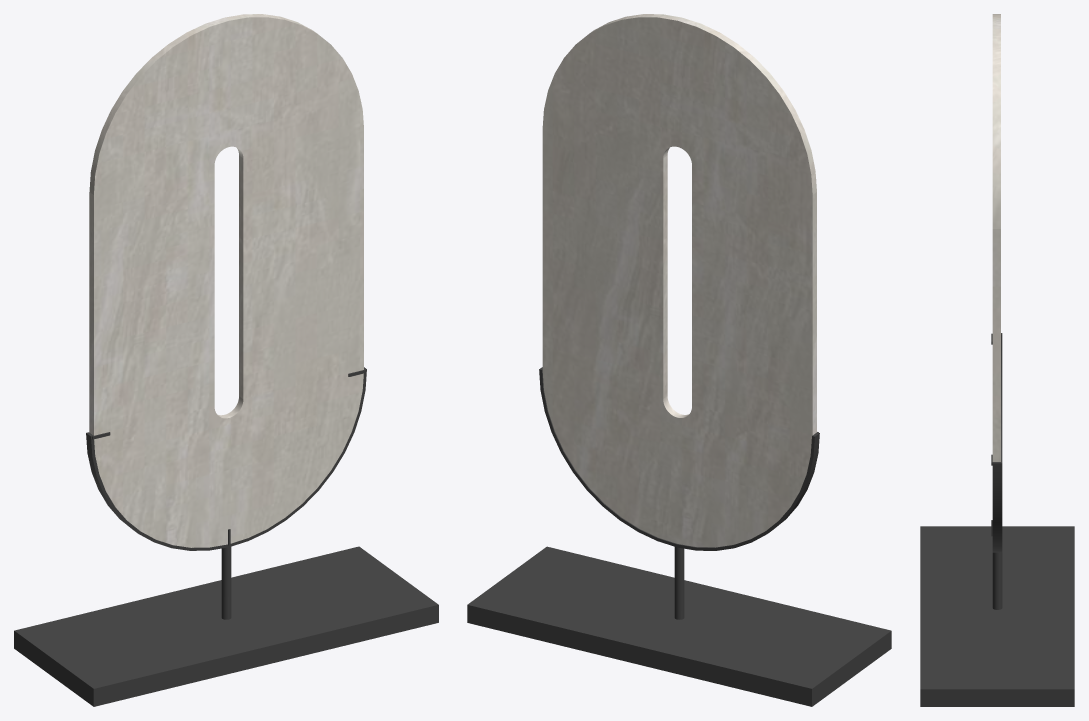
The model's file is decor_marble_sculpture.glb.
3 renders of one model, left to right at view 1: azimuth 30°, elevation 25°; view 2: azimuth 150°, elevation 25°; view 3: azimuth 270°, elevation 25°, orthographic. The views are drawn at different scales.
Parts seen in each view (by area): view 1: Geom3D (×5); view 2: Geom3D (×4); view 3: Geom3D (×4).
Boxes of the visible parts, box(x1,y1,x2,y2) form: Geom3D (×5): box(14, 14, 438, 706); Geom3D (×4): box(467, 14, 891, 706); Geom3D (×4): box(920, 14, 1074, 706).
Bounding box in the file's own units: 0.254 × 0.4339 × 0.1016.
2 materials, 2 textured.
